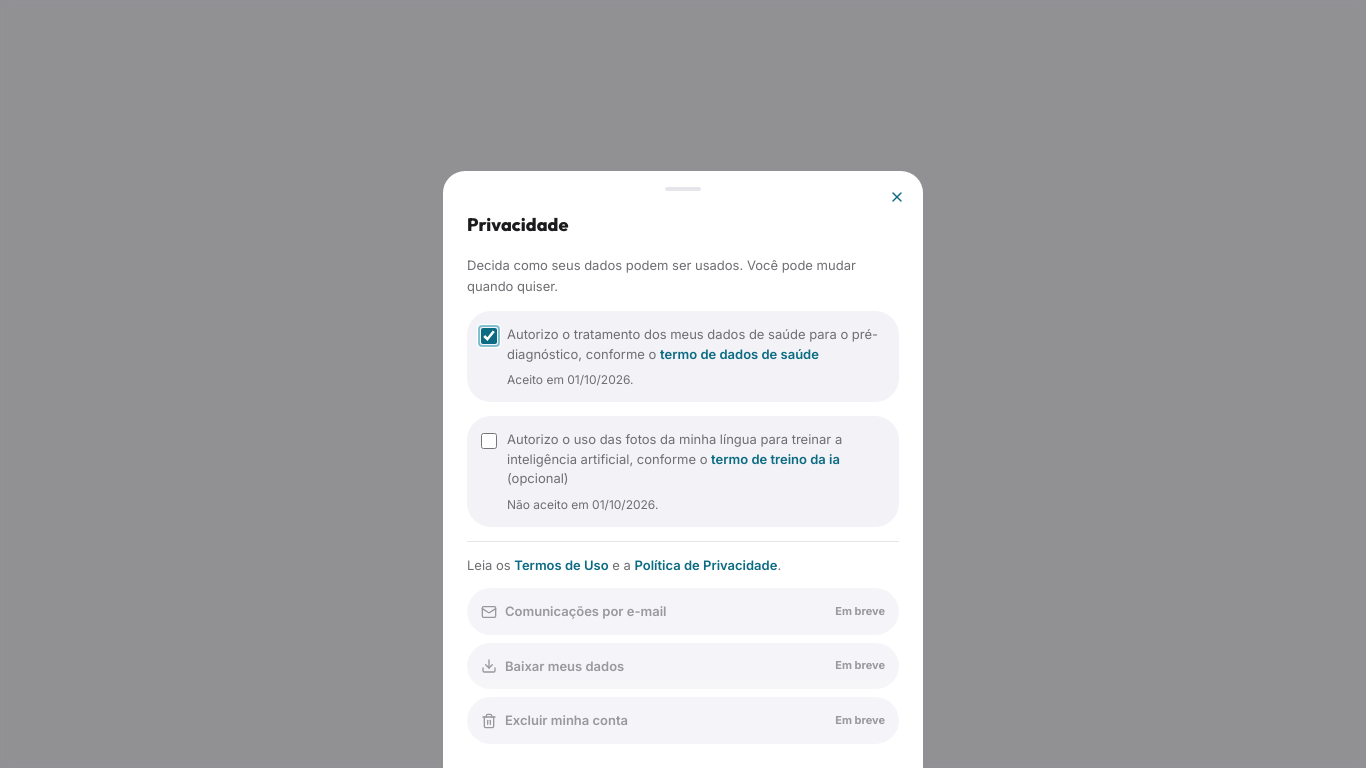
Test case: PrivacyDialog › o nome do termo abre o texto, como no cadastro
The image size is (1366, 768).
Click the button "termo de treino da ia". click: {"x": 776, "y": 459}
box: [711,451,840,467]
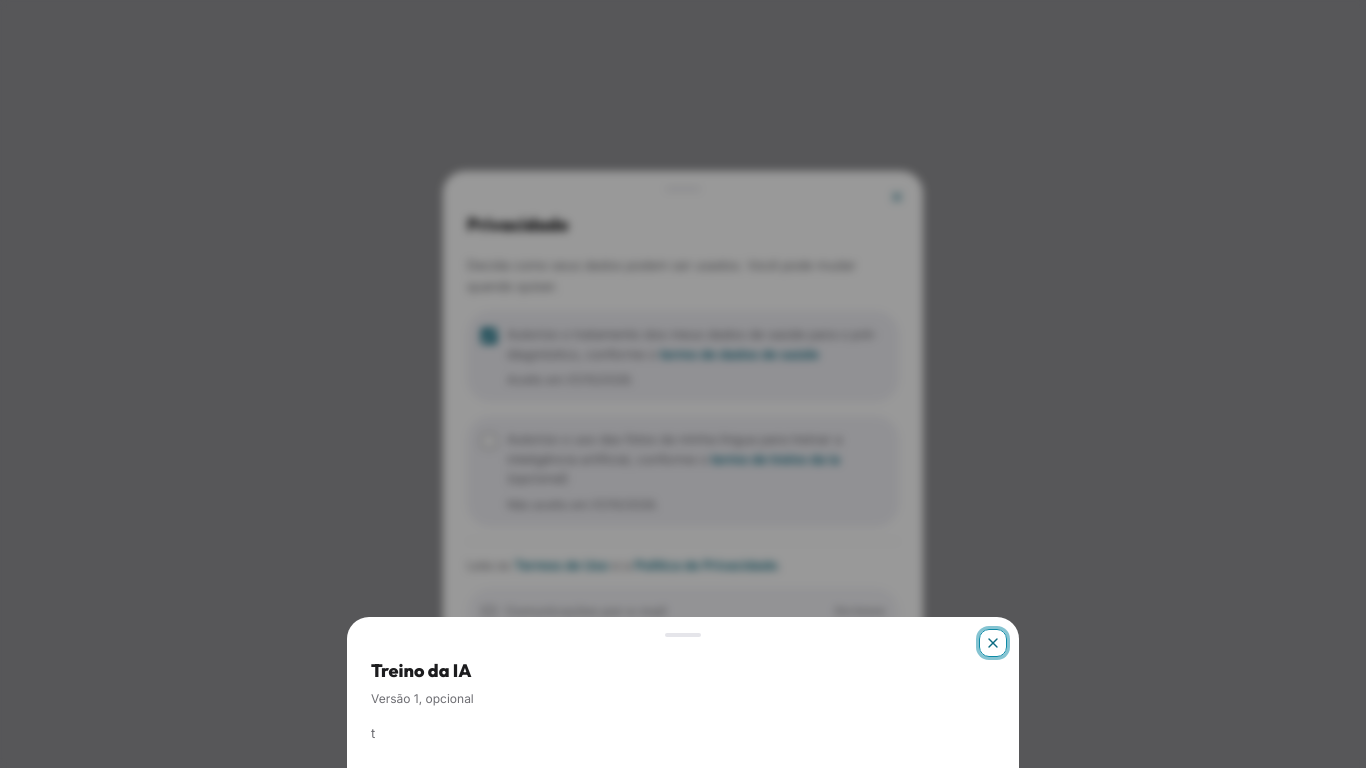
Check: the dialog "Treino da IA" is shown, box [347,617,1019,767]
